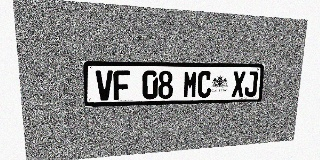0: (142, 71, 158, 99)
8: (158, 71, 173, 99)
C: (197, 71, 212, 98)
F: (113, 70, 130, 100)
J: (244, 71, 258, 97)
M: (183, 71, 198, 98)
V: (95, 70, 113, 101)
X: (231, 71, 246, 97)
